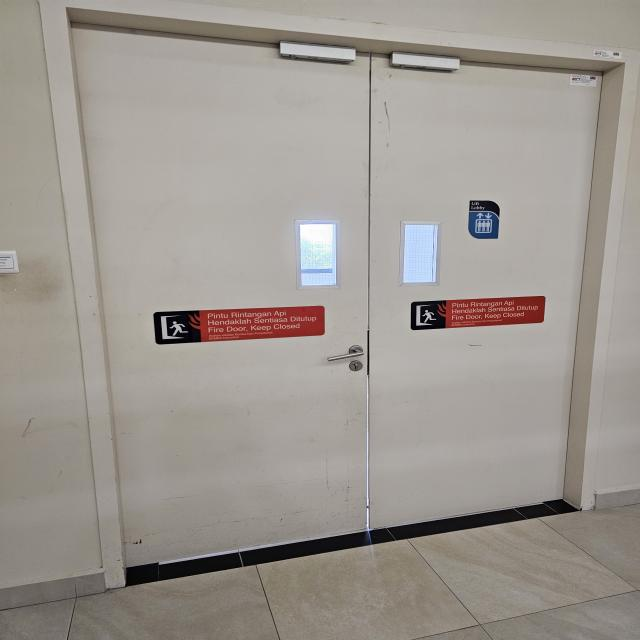door: (40, 3, 625, 590)
